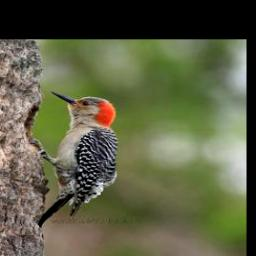Woodpecker: (33, 86, 128, 235)
